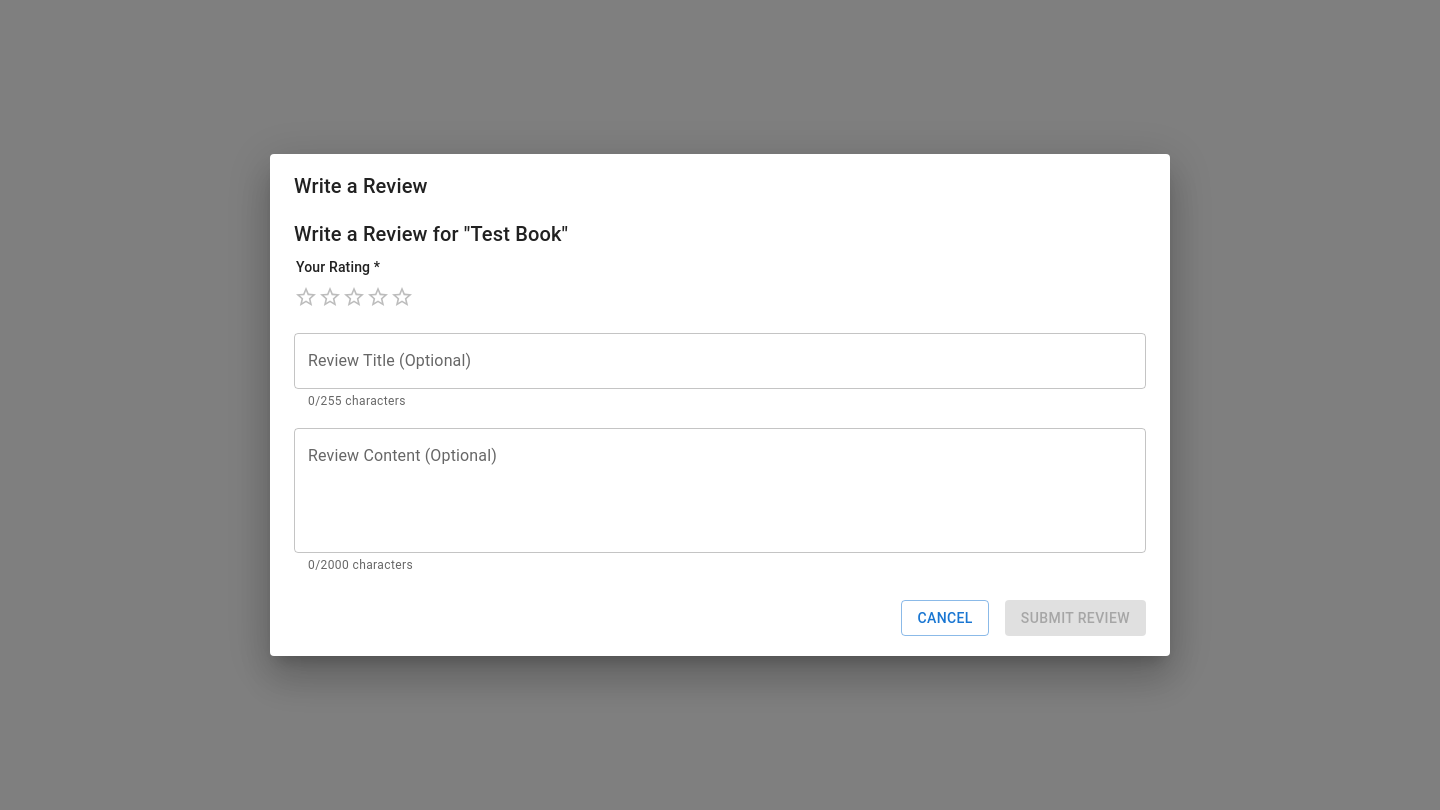
Test: ReviewForm Component › Character Counters › should show character counter for title
Expected: the text "0/255 characters" is shown, [308,394,406,408]
Type "Test title" into the field labelled "Review Title (Optional)". click: (720, 361)
box: [294,333,1146,389]
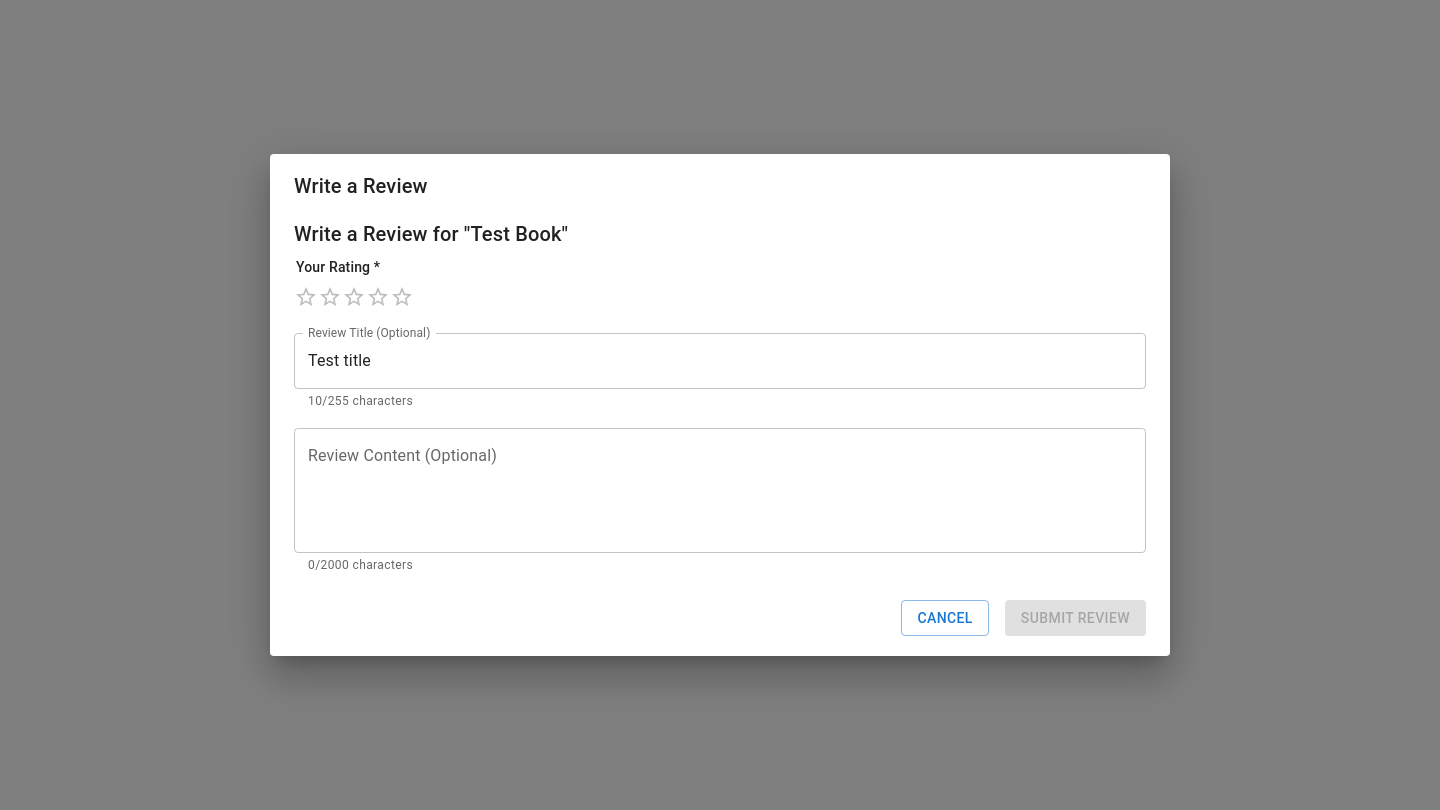
Now the text "10/255 characters" is shown, box [308,394,413,408]
